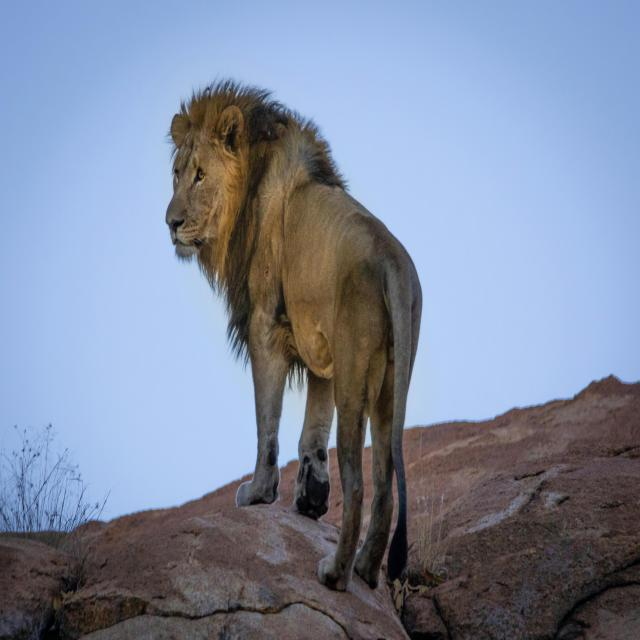Lion: (166, 80, 424, 594)
